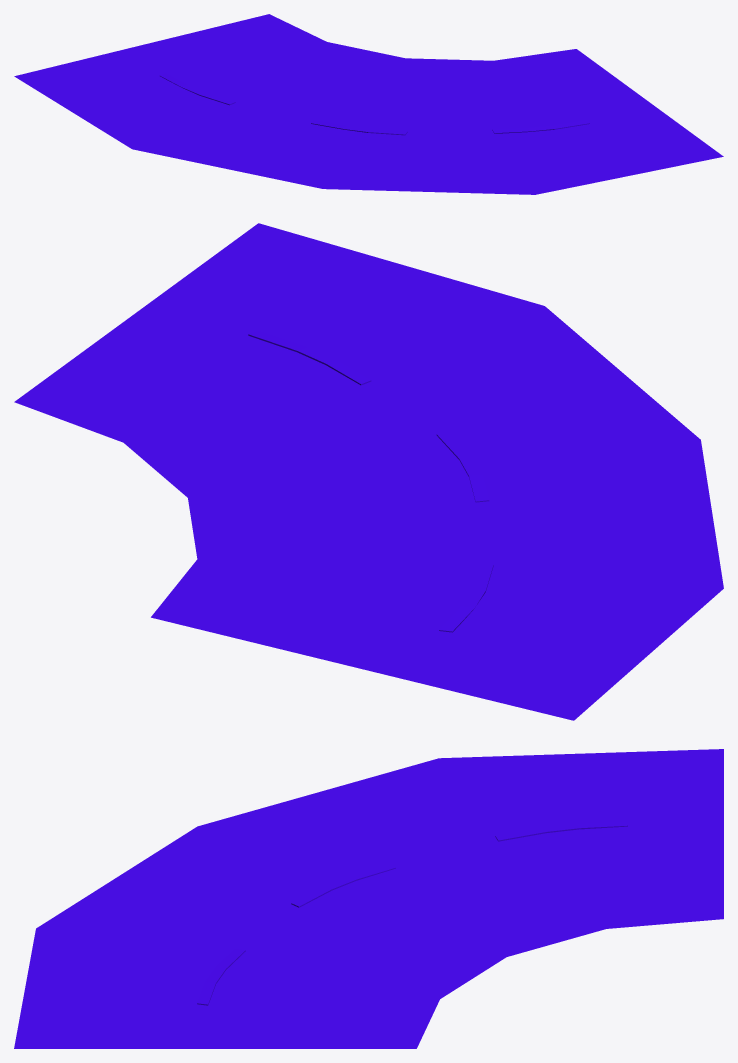
The model's file is Curve_Left_90.fbx.
The picture shows the model from 3 angles, top to bottom: view 1: azimuth 30°, elevation 25°; view 2: azimuth 150°, elevation 25°; view 3: azimuth 270°, elevation 25°; orthographic projection. The views are drawn at different scales.
Parts seen in each view (by area): view 1: Curve_Left; view 2: Curve_Left; view 3: Curve_Left.
Boxes of the visible parts, left/top/right/bottom form: Curve_Left: left=14, top=14, right=723, bottom=194; Curve_Left: left=14, top=223, right=723, bottom=720; Curve_Left: left=14, top=749, right=723, bottom=1048.
Bounding box in the file's own units: 620 × 1.79 × 620.
